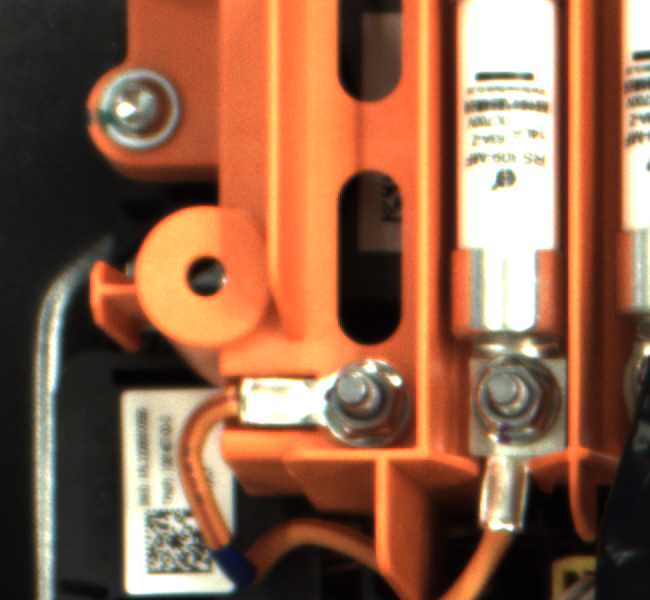screw_m: (81, 70, 205, 171)
screw_s: (457, 351, 565, 444), (309, 351, 407, 441)
